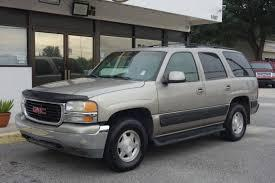windshield: (88, 48, 169, 85)
